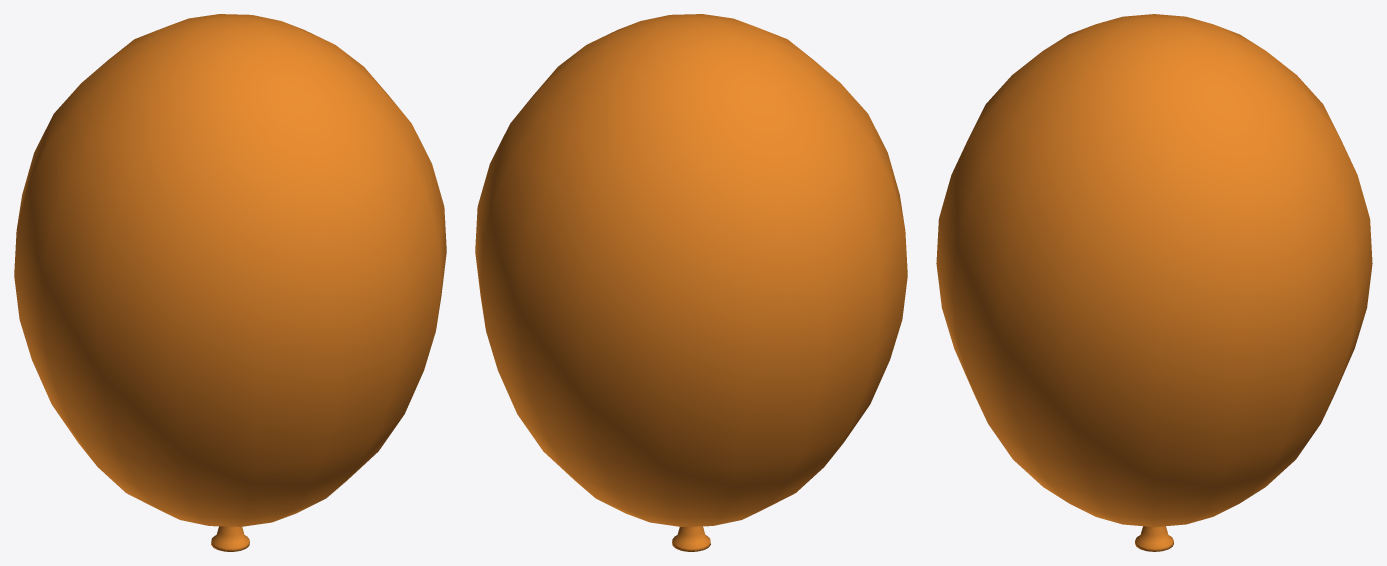
The model's file is balloon 1.fbx.
3 views of the same model, side by side, from view 1: azimuth 30°, elevation 25°; view 2: azimuth 150°, elevation 25°; view 3: azimuth 270°, elevation 25° (orthographic).
Parts seen in each view (by area): view 1: balloon, balloon.001; view 2: balloon, balloon.001; view 3: balloon, balloon.001.
Boxes of the visible parts, x1,y1,x2,y2 form: balloon: (14,14,446,526); balloon.001: (211,526,249,551); balloon: (475,14,907,526); balloon.001: (672,526,710,551); balloon: (936,14,1372,527); balloon.001: (1135,526,1173,551).
Size of the model in its own units: 0.5875 by 0.7621 by 0.5875.
